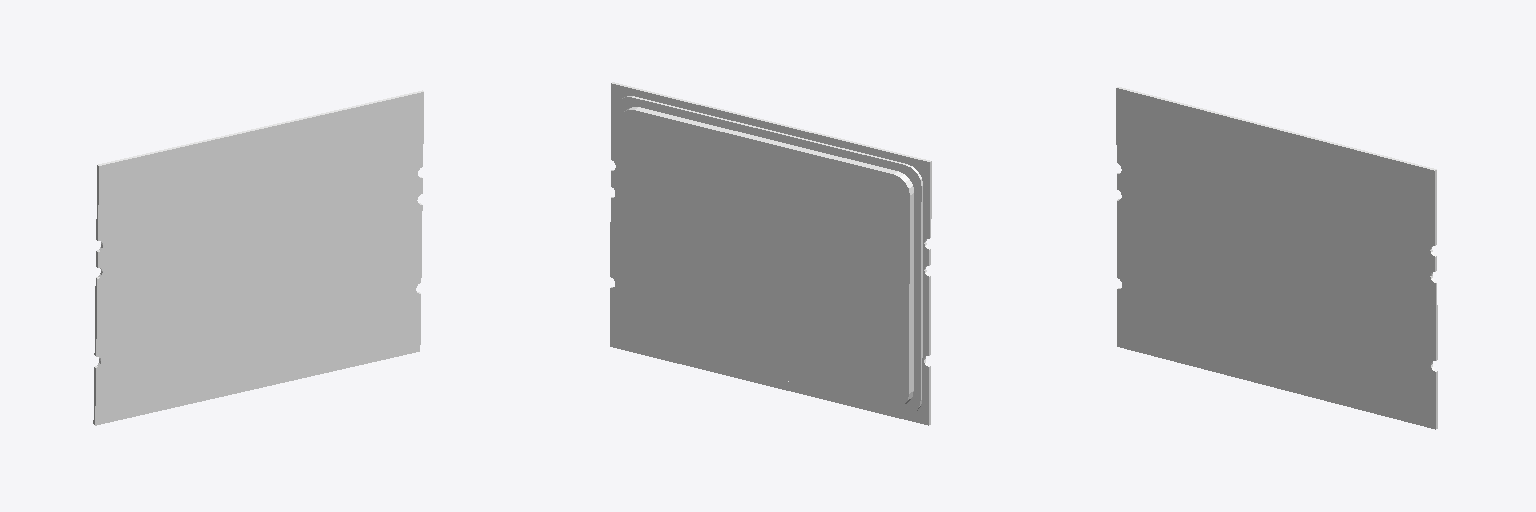
File: CPU.obj
The picture shows the model from 3 angles: view 1: azimuth 30°, elevation 25°; view 2: azimuth 150°, elevation 25°; view 3: azimuth 330°, elevation 25°; orthographic projection.
Parts seen in each view (by area): view 1: Plane_004_Mesh; view 2: Cube_002_Mesh_001, Plane_004_Mesh; view 3: Plane_004_Mesh.
Part boxes in pixels (left/top/right/bottom): Plane_004_Mesh: left=93, top=90, right=423, bottom=425; Cube_002_Mesh_001: left=615, top=96, right=922, bottom=413; Plane_004_Mesh: left=610, top=82, right=931, bottom=425; Plane_004_Mesh: left=1116, top=87, right=1437, bottom=429.
Bounding box in the file's own units: 226 × 176 × 16.08.